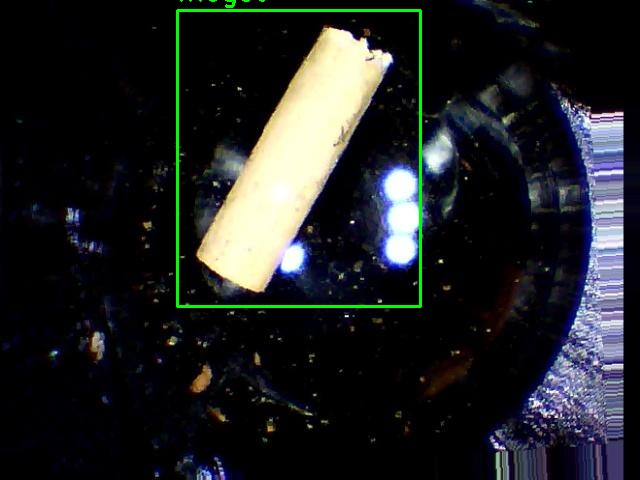megot: (177, 10, 420, 306)
